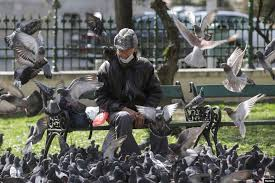mask: (115, 42, 136, 65)
